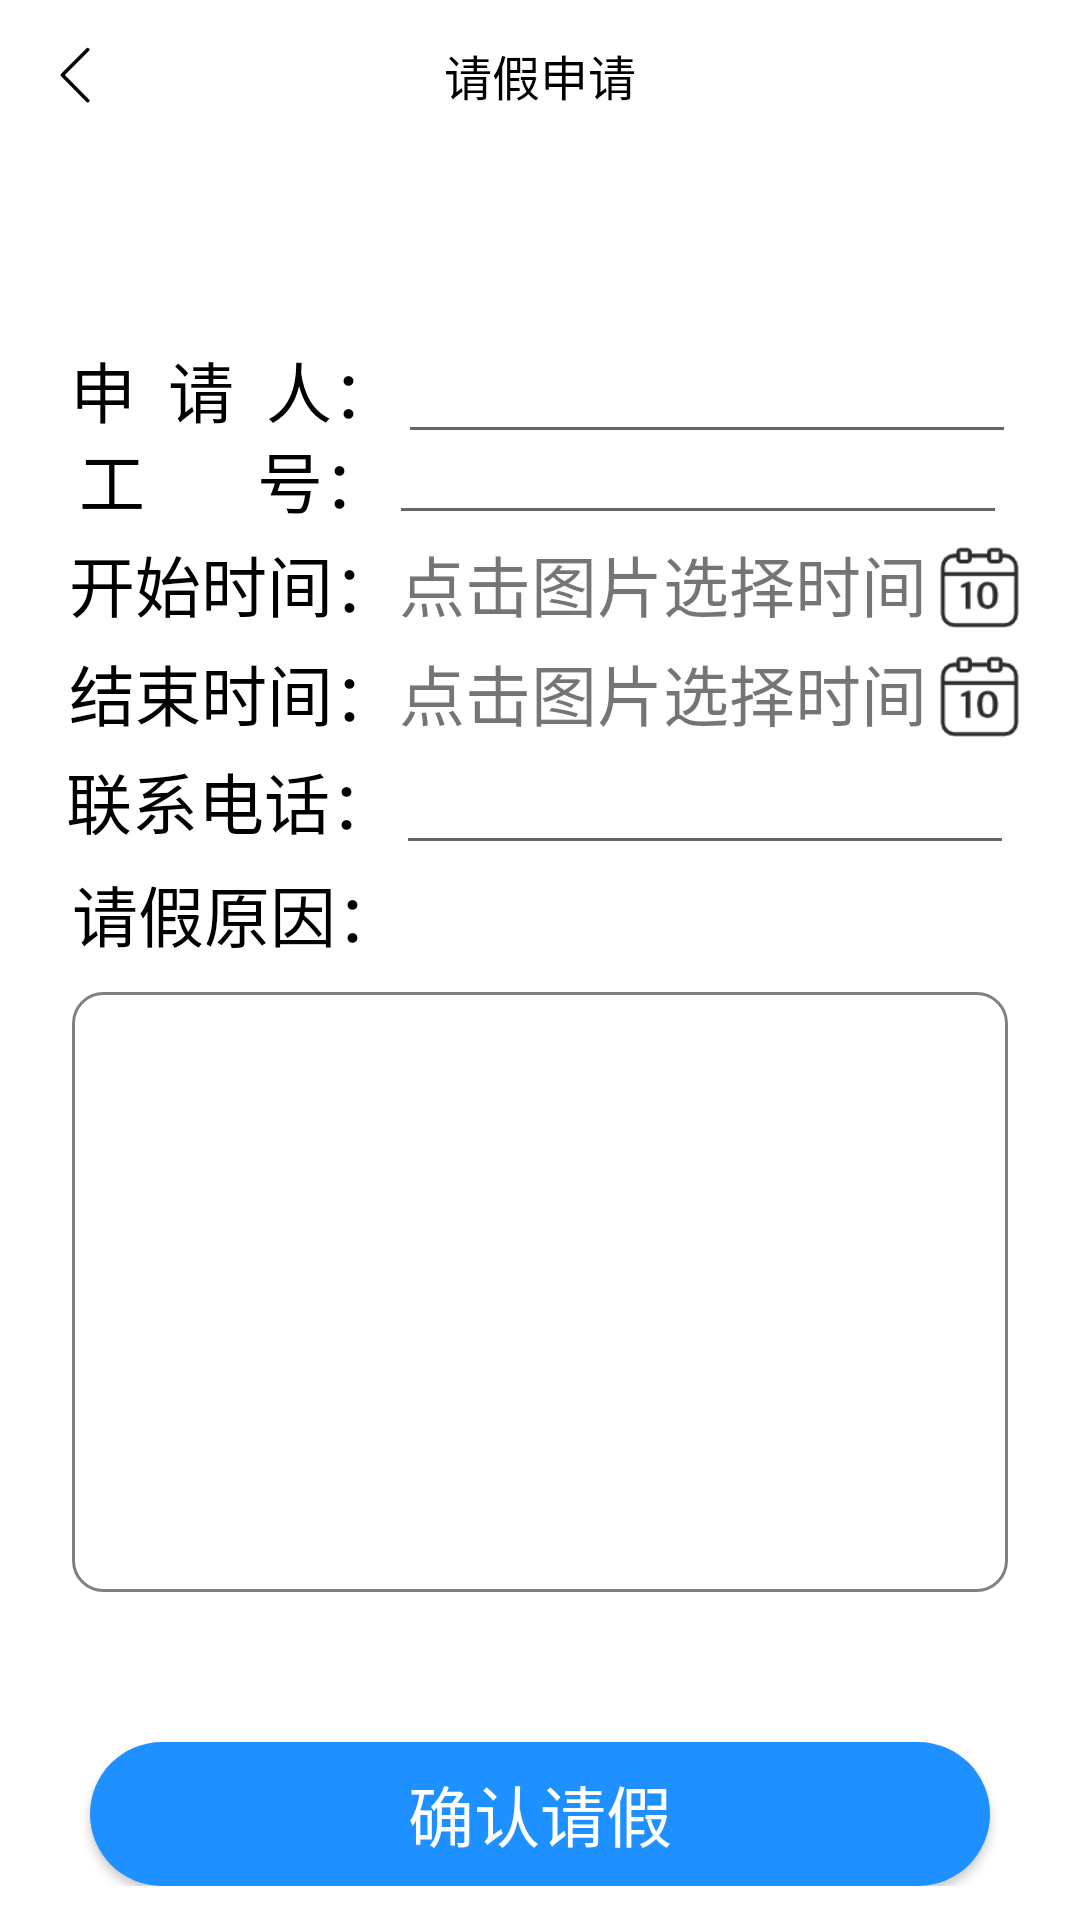

Point at icon controls on the screen. Image size 1080×1920, points as [x,y].
fanhui: [75,75]
rili tupian: [979,587], [979,696]
